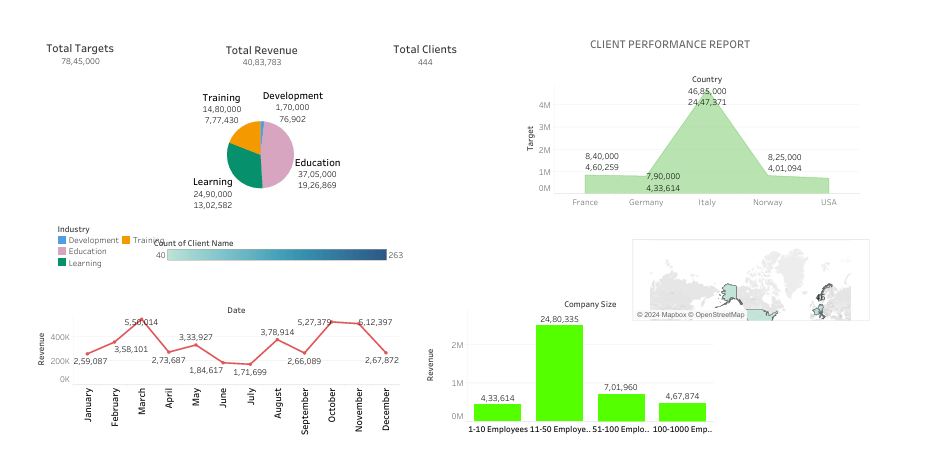

The page's visual inventory and layout, read from the dashboard file:
{"tool":"tableau","page":{"name":"Dashboard 1","canvas":[1000,1000],"units":"permille","ordinal":0},"visuals":[{"type":"text","box":[583,26.2,341,80]},{"type":"worksheet","title":"Sheet 1","mark":"Automatic","box":[33,41.2,148,101.2]},{"type":"worksheet","title":"Sheet 3","mark":"Automatic","box":[429,43.8,166,101.2]},{"type":"worksheet","title":"Sheet 2","mark":"Automatic","box":[235,45,205,87.5]},{"type":"worksheet","title":"Sheet 4","mark":"Area","rows":["Target"],"cols":["Country"],"box":[580.5,117.9,388.8,332.5]},{"type":"worksheet","title":"Sheet 5","mark":"Pie","box":[89,151.2,387,332.5]},{"type":"legend","title":"Sheet 5","param":"[federated.0a6aypi1abuqqj1by5n121fvlvpm].[none:Industry:nk]","box":[49,486.2,140,132.5]},{"type":"worksheet","title":"Sheet 8","mark":"Automatic","box":[709.5,506.9,271.5,210.8]},{"type":"legend","title":"Sheet 8","param":"[federated.0a6aypi1abuqqj1by5n121fvlvpm].[cnt:Client Name:qk]","box":[160.3,515.7,288.7,110.4]},{"type":"worksheet","title":"Sheet 6","mark":"Automatic","rows":["Revenue"],"cols":["Company Size"],"box":[466.2,644.9,335.4,357.6]},{"type":"worksheet","title":"Sheet 7","mark":"Automatic","rows":["Revenue"],"cols":["Date"],"box":[20.3,658.7,421.4,332.5]}]}

Visuals, with their boxes on the dashboard's canvas, which has no fixed pixel size, in thousandths of its width and height (x1, y1, x2, y2). These are canvas units, not pixel positions in the 925x455 screenshot, which may show the page scaled, cropped or inside an application window:
text: Rect(583, 26, 924, 106)
"Sheet 1" worksheet: Rect(33, 41, 181, 142)
"Sheet 3" worksheet: Rect(429, 44, 595, 145)
"Sheet 2" worksheet: Rect(235, 45, 440, 132)
"Sheet 4" worksheet (Area marks): Rect(580, 118, 969, 450)
"Sheet 5" worksheet (Pie marks): Rect(89, 151, 476, 484)
"Sheet 5" legend: Rect(49, 486, 189, 619)
"Sheet 8" worksheet: Rect(710, 507, 981, 718)
"Sheet 8" legend: Rect(160, 516, 449, 626)
"Sheet 6" worksheet: Rect(466, 645, 802, 1002)
"Sheet 7" worksheet: Rect(20, 659, 442, 991)
